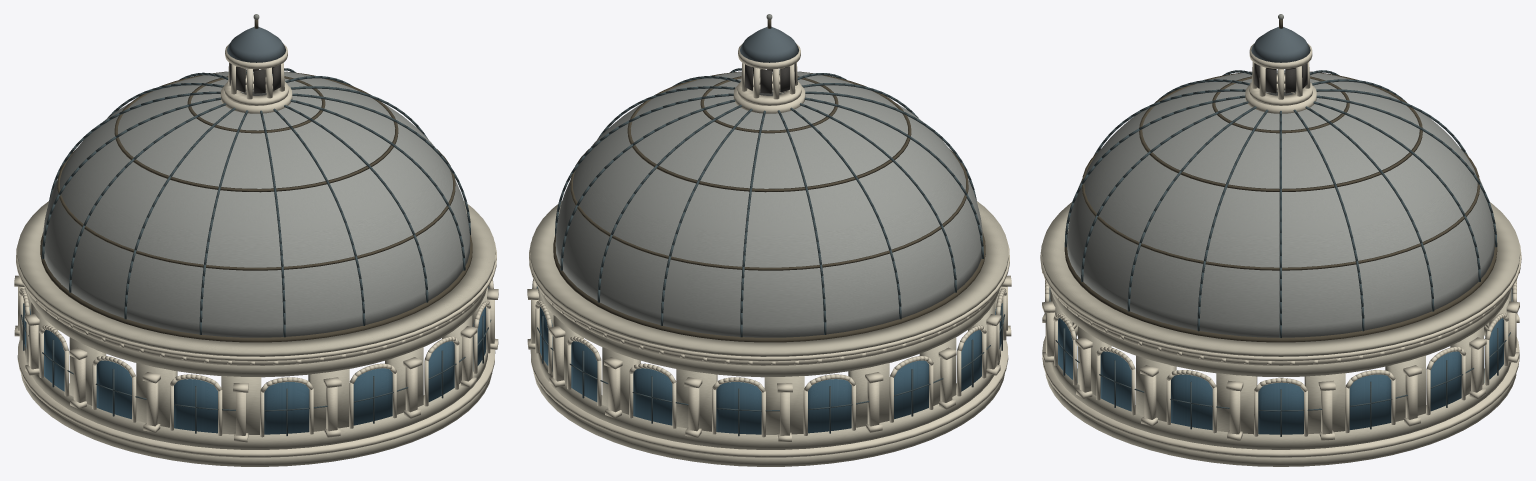
The picture shows the model from 3 angles, left to right: view 1: azimuth 30°, elevation 25°; view 2: azimuth 150°, elevation 25°; view 3: azimuth 270°, elevation 25°; orthographic projection.
Parts seen in each view (by area): view 1: VIS_DOME_SHELL__roof_stone, VIS_DRUM_WALL__warm_limestone, VIS_DRUM_CORNICE__warm_limestone, VIS_GLAZING__glass_blue, VIS_ROOF_RIBS__weathered_steel, VIS_DRUM_PIERS__warm_limestone, VIS_DRUM_PILASTERS__cut_limestone, VIS_DRUM_SILL__cut_limestone, VIS_DRUM_SILL__warm_limestone, VIS_ROOF_BANDS__dark_bronze, VIS_DRUM_CORNICE__cut_limestone, VIS_WINDOW_FRAMES__cut_limestone (+8 smaller); view 2: VIS_DOME_SHELL__roof_stone, VIS_DRUM_WALL__warm_limestone, VIS_DRUM_CORNICE__warm_limestone, VIS_GLAZING__glass_blue, VIS_ROOF_RIBS__weathered_steel, VIS_DRUM_PIERS__warm_limestone, VIS_DRUM_PILASTERS__cut_limestone, VIS_DRUM_SILL__cut_limestone, VIS_DRUM_SILL__warm_limestone, VIS_ROOF_BANDS__dark_bronze, VIS_DRUM_CORNICE__cut_limestone, VIS_WINDOW_FRAMES__cut_limestone (+8 smaller); view 3: VIS_DOME_SHELL__roof_stone, VIS_DRUM_WALL__warm_limestone, VIS_DRUM_CORNICE__warm_limestone, VIS_GLAZING__glass_blue, VIS_ROOF_RIBS__weathered_steel, VIS_DRUM_PIERS__warm_limestone, VIS_DRUM_PILASTERS__cut_limestone, VIS_DRUM_SILL__cut_limestone, VIS_DRUM_SILL__warm_limestone, VIS_ROOF_BANDS__dark_bronze, VIS_DRUM_CORNICE__cut_limestone, VIS_WINDOW_FRAMES__cut_limestone (+8 smaller).
Boxes of the visible parts, bbox=[...] form: VIS_DOME_SHELL__roof_stone: bbox=[43, 71, 470, 337]; VIS_DRUM_WALL__warm_limestone: bbox=[25, 289, 487, 449]; VIS_DRUM_CORNICE__warm_limestone: bbox=[17, 201, 495, 356]; VIS_GLAZING__glass_blue: bbox=[24, 287, 488, 434]; VIS_ROOF_RIBS__weathered_steel: bbox=[42, 67, 470, 337]; VIS_DRUM_PIERS__warm_limestone: bbox=[24, 287, 488, 434]; VIS_DRUM_PILASTERS__cut_limestone: bbox=[14, 275, 498, 442]; VIS_DRUM_SILL__cut_limestone: bbox=[17, 340, 495, 457]; VIS_DRUM_SILL__warm_limestone: bbox=[21, 373, 492, 466]; VIS_ROOF_BANDS__dark_bronze: bbox=[57, 71, 455, 270]; VIS_DRUM_CORNICE__cut_limestone: bbox=[16, 241, 496, 365]; VIS_WINDOW_FRAMES__cut_limestone: bbox=[19, 296, 490, 437]; VIS_DOME_SHELL__roof_stone: bbox=[555, 71, 982, 337]; VIS_DRUM_WALL__warm_limestone: bbox=[538, 289, 1000, 449]; VIS_DRUM_CORNICE__warm_limestone: bbox=[530, 201, 1008, 356]; VIS_GLAZING__glass_blue: bbox=[537, 287, 1001, 434]; VIS_ROOF_RIBS__weathered_steel: bbox=[555, 67, 983, 337]; VIS_DRUM_PIERS__warm_limestone: bbox=[537, 287, 1001, 434]; VIS_DRUM_PILASTERS__cut_limestone: bbox=[527, 275, 1011, 442]; VIS_DRUM_SILL__cut_limestone: bbox=[530, 340, 1008, 457]; VIS_DRUM_SILL__warm_limestone: bbox=[533, 373, 1004, 466]; VIS_ROOF_BANDS__dark_bronze: bbox=[570, 71, 968, 270]; VIS_DRUM_CORNICE__cut_limestone: bbox=[529, 241, 1009, 365]; VIS_WINDOW_FRAMES__cut_limestone: bbox=[535, 296, 1006, 437]; VIS_DOME_SHELL__roof_stone: bbox=[1067, 70, 1494, 337]; VIS_DRUM_WALL__warm_limestone: bbox=[1050, 289, 1511, 449]; VIS_DRUM_CORNICE__warm_limestone: bbox=[1041, 202, 1520, 356]; VIS_GLAZING__glass_blue: bbox=[1049, 288, 1512, 434]; VIS_ROOF_RIBS__weathered_steel: bbox=[1064, 70, 1497, 337]; VIS_DRUM_PIERS__warm_limestone: bbox=[1050, 290, 1511, 434]; VIS_DRUM_PILASTERS__cut_limestone: bbox=[1042, 271, 1519, 440]; VIS_DRUM_SILL__cut_limestone: bbox=[1042, 324, 1519, 457]; VIS_DRUM_SILL__warm_limestone: bbox=[1045, 326, 1516, 466]; VIS_ROOF_BANDS__dark_bronze: bbox=[1082, 71, 1479, 270]; VIS_DRUM_CORNICE__cut_limestone: bbox=[1040, 243, 1521, 365]; VIS_WINDOW_FRAMES__cut_limestone: bbox=[1045, 313, 1516, 436].
Bounding box in the file's own units: 23.96 × 19.39 × 23.96.
9 materials, 9 textured.
